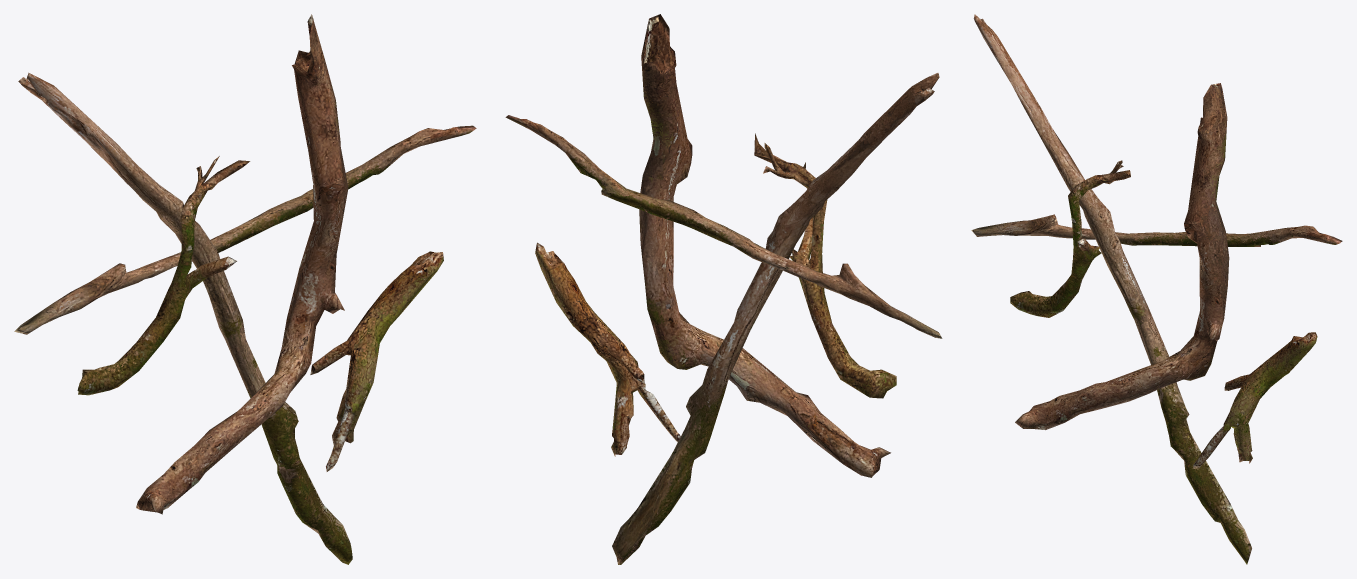
File: env214_Murovanka_Woods.glb
3 views of the same model, side by side, from view 1: azimuth 30°, elevation 25°; view 2: azimuth 150°, elevation 25°; view 3: azimuth 330°, elevation 25° (orthographic). The views are drawn at different scales.
Parts seen in each view (by area): view 1: set_0_group_0; view 2: set_0_group_0; view 3: set_0_group_0.
Part boxes in pixels (x1,y1,x2,y2): set_0_group_0: (14,14,476,564); set_0_group_0: (505,14,942,564); set_0_group_0: (971,14,1342,564).
Bounding box in the file's own units: 3.48 × 4.23 × 0.6459.
Materials: 1 (1 with a texture image).
